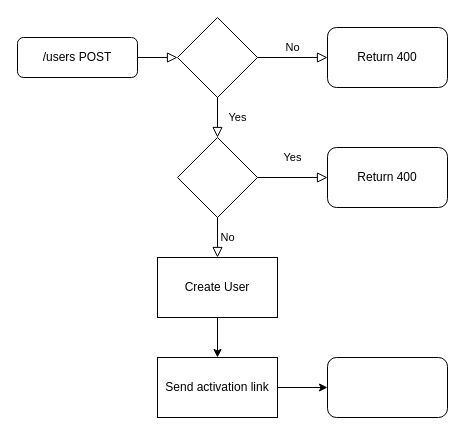
The diagram is 465 pixels wide and 435 high, and some of its shapes have lost their labels. The shapes that lost their labels are listed below. From the top down, each one's centre as x and y in pixels, then its label:
At (x=217, y=57): "Request validation".
At (x=217, y=177): "User exists".
At (x=387, y=387): "Return 201".
